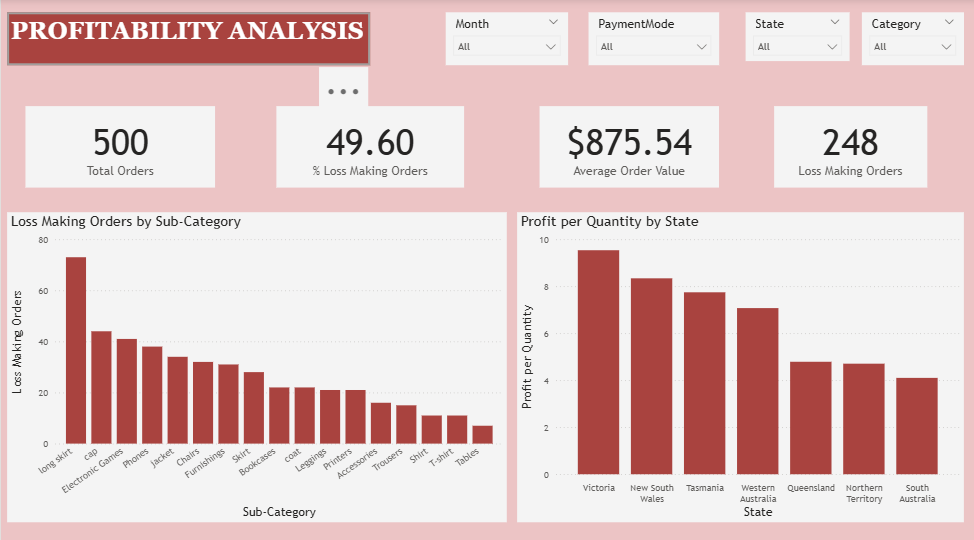

This screenshot's page, from the dashboard's own definition file:
{"tool":"powerbi","page":{"name":"Profitability Analysis","canvas":[1280,720],"ordinal":1},"visuals":[{"type":"card","fields":{"Values":["Orders_Australia.#Total Orders"]},"box":[32,141.2,247.7,106.5],"z":0},{"type":"card","fields":{"Values":["Orders_Australia.#Average Order Value"]},"box":[703.2,141.2,234.4,106.5],"z":1},{"type":"card","fields":{"Values":["Orders_Australia.#Loss Making Orders"]},"box":[1009.5,141.2,199.8,106.5],"z":2},{"type":"card","fields":{"Values":["Orders_Australia.#% Loss Making Orders"]},"box":[359.6,141.2,245.1,106.5],"z":3},{"type":"clusteredColumnChart","fields":{"Y":["Orders_Australia.#Loss Making Orders"],"Category":["Details.Sub-Category"]},"box":[8,279.7,652.6,404.9],"z":4},{"type":"clusteredColumnChart","fields":{"Y":["Orders_Australia.#Profit per Quantity"],"Category":["Orders_Australia.State"]},"box":[673.9,279.7,583.4,404.9],"z":5},{"type":"slicer","fields":{"Values":["Details.Category"]},"box":[1124.1,18.6,133.2,69.3],"z":6},{"type":"slicer","fields":{"Values":["Orders_Australia.State"]},"box":[972.3,18.6,135.8,63.9],"z":7},{"type":"slicer","fields":{"Values":["Details.PaymentMode"]},"box":[767.2,18.6,170.5,69.3],"z":8},{"type":"slicer","fields":{"Values":["Orders_Australia.Order Date.Variation.Date Hierarchy.Month"]},"box":[580.7,18.6,159.8,69.3],"z":9},{"type":"textbox","box":[8,18.6,474.1,69.3],"z":10}]}

Visuals, with their boxes in screenshot pixels (x1, y1, x2, y2), scaled from the page's 1280x720 canvas onto the 974x540 screenshot:
card - Orders_Australia.#Total Orders: (x1=24, y1=106, x2=213, y2=186)
card - Orders_Australia.#Average Order Value: (x1=535, y1=106, x2=713, y2=186)
card - Orders_Australia.#Loss Making Orders: (x1=768, y1=106, x2=920, y2=186)
card - Orders_Australia.#% Loss Making Orders: (x1=274, y1=106, x2=460, y2=186)
clusteredColumnChart - Orders_Australia.#Loss Making Orders x Details.Sub-Category: (x1=6, y1=210, x2=503, y2=513)
clusteredColumnChart - Orders_Australia.#Profit per Quantity x Orders_Australia.State: (x1=513, y1=210, x2=957, y2=513)
slicer - Details.Category: (x1=855, y1=14, x2=957, y2=66)
slicer - Orders_Australia.State: (x1=740, y1=14, x2=843, y2=62)
slicer - Details.PaymentMode: (x1=584, y1=14, x2=714, y2=66)
slicer - Orders_Australia.Order Date.Variation.Date Hierarchy.Month: (x1=442, y1=14, x2=563, y2=66)
textbox: (x1=6, y1=14, x2=367, y2=66)
